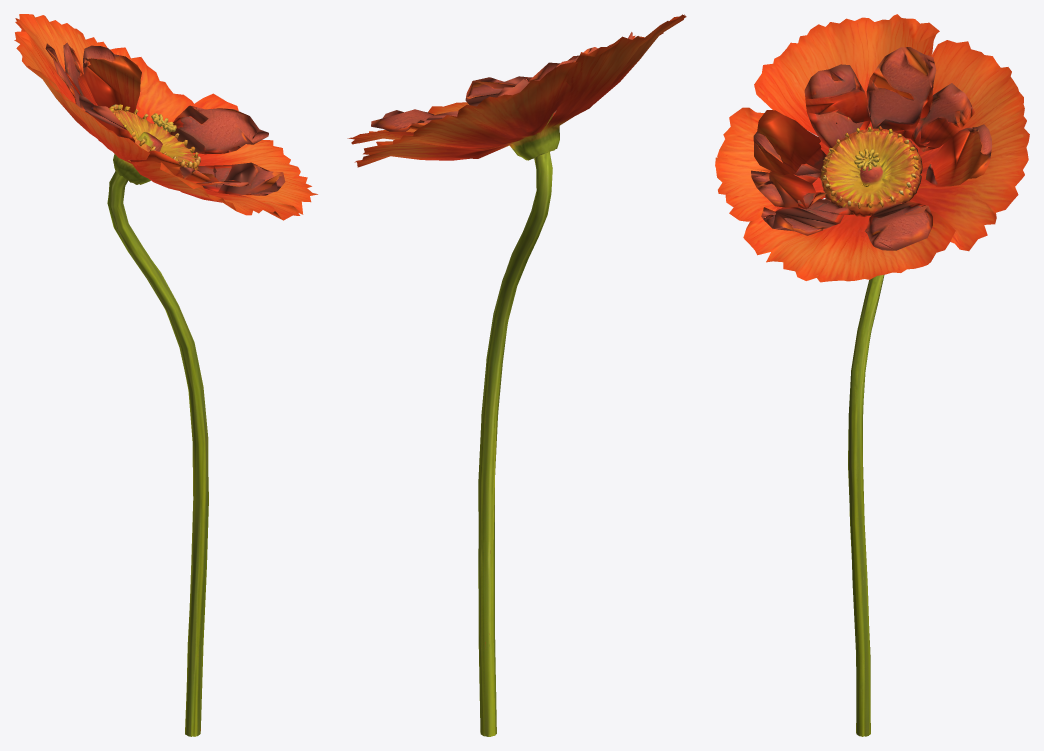
File: flower-06.glb
The picture shows the model from 3 angles, left to right: view 1: azimuth 30°, elevation 25°; view 2: azimuth 150°, elevation 25°; view 3: azimuth 270°, elevation 25°; orthographic projection. The views are drawn at different scales.
Parts seen in each view (by area): view 1: tripo_node_5c5cd8c4-c315-48fb-8645-8539a8dcfbc7; view 2: tripo_node_5c5cd8c4-c315-48fb-8645-8539a8dcfbc7; view 3: tripo_node_5c5cd8c4-c315-48fb-8645-8539a8dcfbc7.
Boxes of the visible parts, left/top/right/bottom form: tripo_node_5c5cd8c4-c315-48fb-8645-8539a8dcfbc7: left=14, top=14, right=317, bottom=736; tripo_node_5c5cd8c4-c315-48fb-8645-8539a8dcfbc7: left=347, top=14, right=686, bottom=736; tripo_node_5c5cd8c4-c315-48fb-8645-8539a8dcfbc7: left=715, top=14, right=1029, bottom=736.
Size of the model in its own units: 0.3868 by 0.998 by 0.4387.
Materials: 1 (1 with a texture image).
